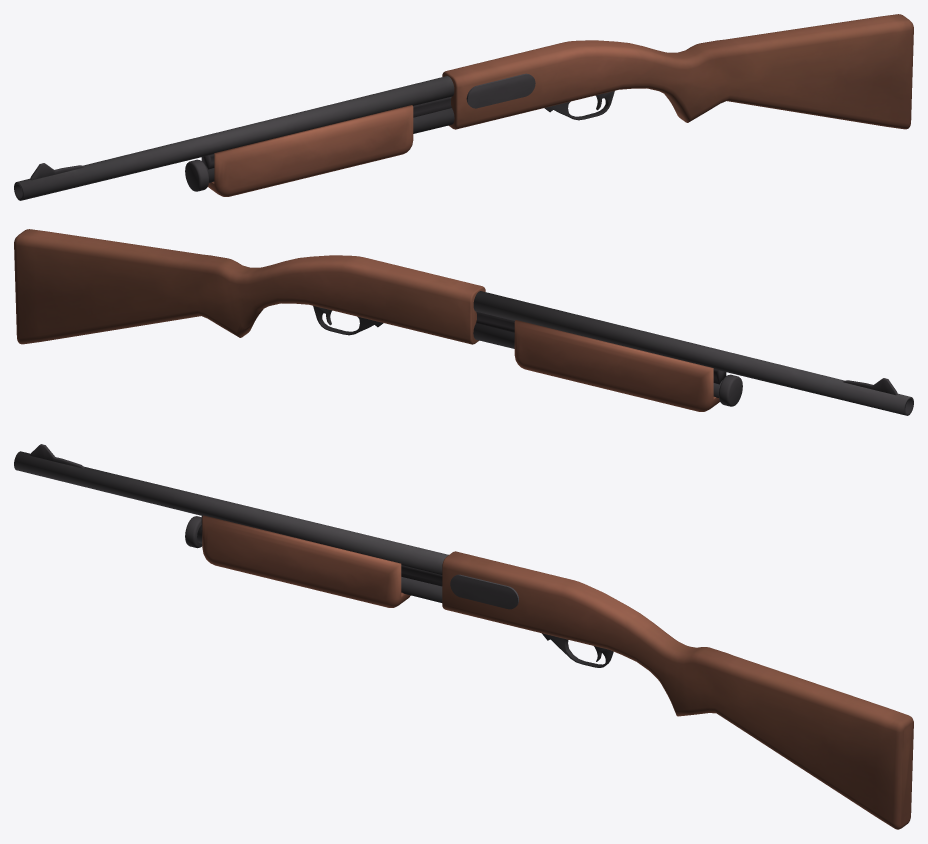
The model's file is shotgun.fbx.
The picture shows the model from 3 angles, top to bottom: view 1: azimuth 30°, elevation 25°; view 2: azimuth 150°, elevation 25°; view 3: azimuth 330°, elevation 25°; orthographic projection.
Parts seen in each view (by area): view 1: shotgun, pump; view 2: shotgun, pump; view 3: shotgun, pump.
Boxes of the visible parts, x1=… form: shotgun: x1=14, y1=14, x2=913, y2=200; pump: x1=208, y1=105, x2=413, y2=196; shotgun: x1=14, y1=229, x2=913, y2=415; pump: x1=514, y1=320, x2=719, y2=411; shotgun: x1=14, y1=444, x2=913, y2=829; pump: x1=202, y1=515, x2=410, y2=607.
Size of the model in its own units: 87.15 by 16.12 by 3.2.
1 material, 1 textured.
